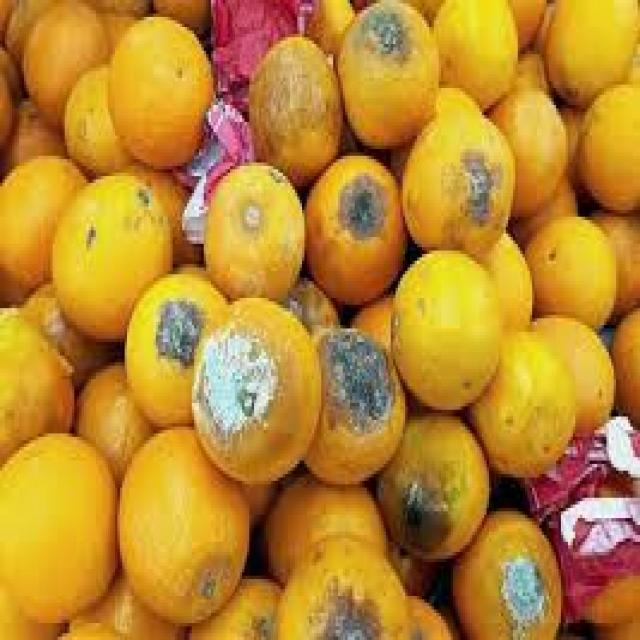organic waste: (115, 423, 249, 620), (192, 291, 316, 481), (0, 430, 115, 620), (48, 166, 170, 335), (374, 403, 489, 555), (398, 105, 513, 254), (300, 322, 405, 484), (105, 14, 214, 162), (122, 267, 223, 423), (470, 322, 573, 474), (274, 528, 408, 637), (451, 504, 561, 636), (247, 30, 340, 186), (335, 0, 434, 146), (302, 153, 403, 294), (201, 159, 302, 298), (259, 470, 386, 576), (0, 152, 89, 302), (484, 78, 566, 213), (0, 308, 74, 457), (522, 210, 614, 328), (67, 356, 154, 478), (22, 274, 115, 386), (530, 308, 611, 430), (544, 0, 638, 105), (568, 484, 638, 623), (67, 558, 187, 636), (22, 0, 103, 115), (431, 0, 518, 102), (575, 78, 638, 213), (130, 156, 202, 267), (62, 58, 130, 172), (187, 569, 283, 637), (587, 200, 638, 311), (2, 98, 65, 173), (513, 183, 575, 244), (608, 302, 638, 424), (386, 532, 443, 596), (88, 0, 148, 58), (0, 579, 60, 637), (0, 0, 50, 64), (0, 44, 24, 156), (299, 0, 350, 47), (348, 291, 388, 349), (402, 589, 450, 637), (151, 0, 209, 34), (558, 94, 578, 190), (508, 0, 547, 44), (513, 48, 544, 92), (434, 85, 484, 112), (587, 616, 638, 637), (402, 0, 436, 20), (172, 257, 202, 278)
